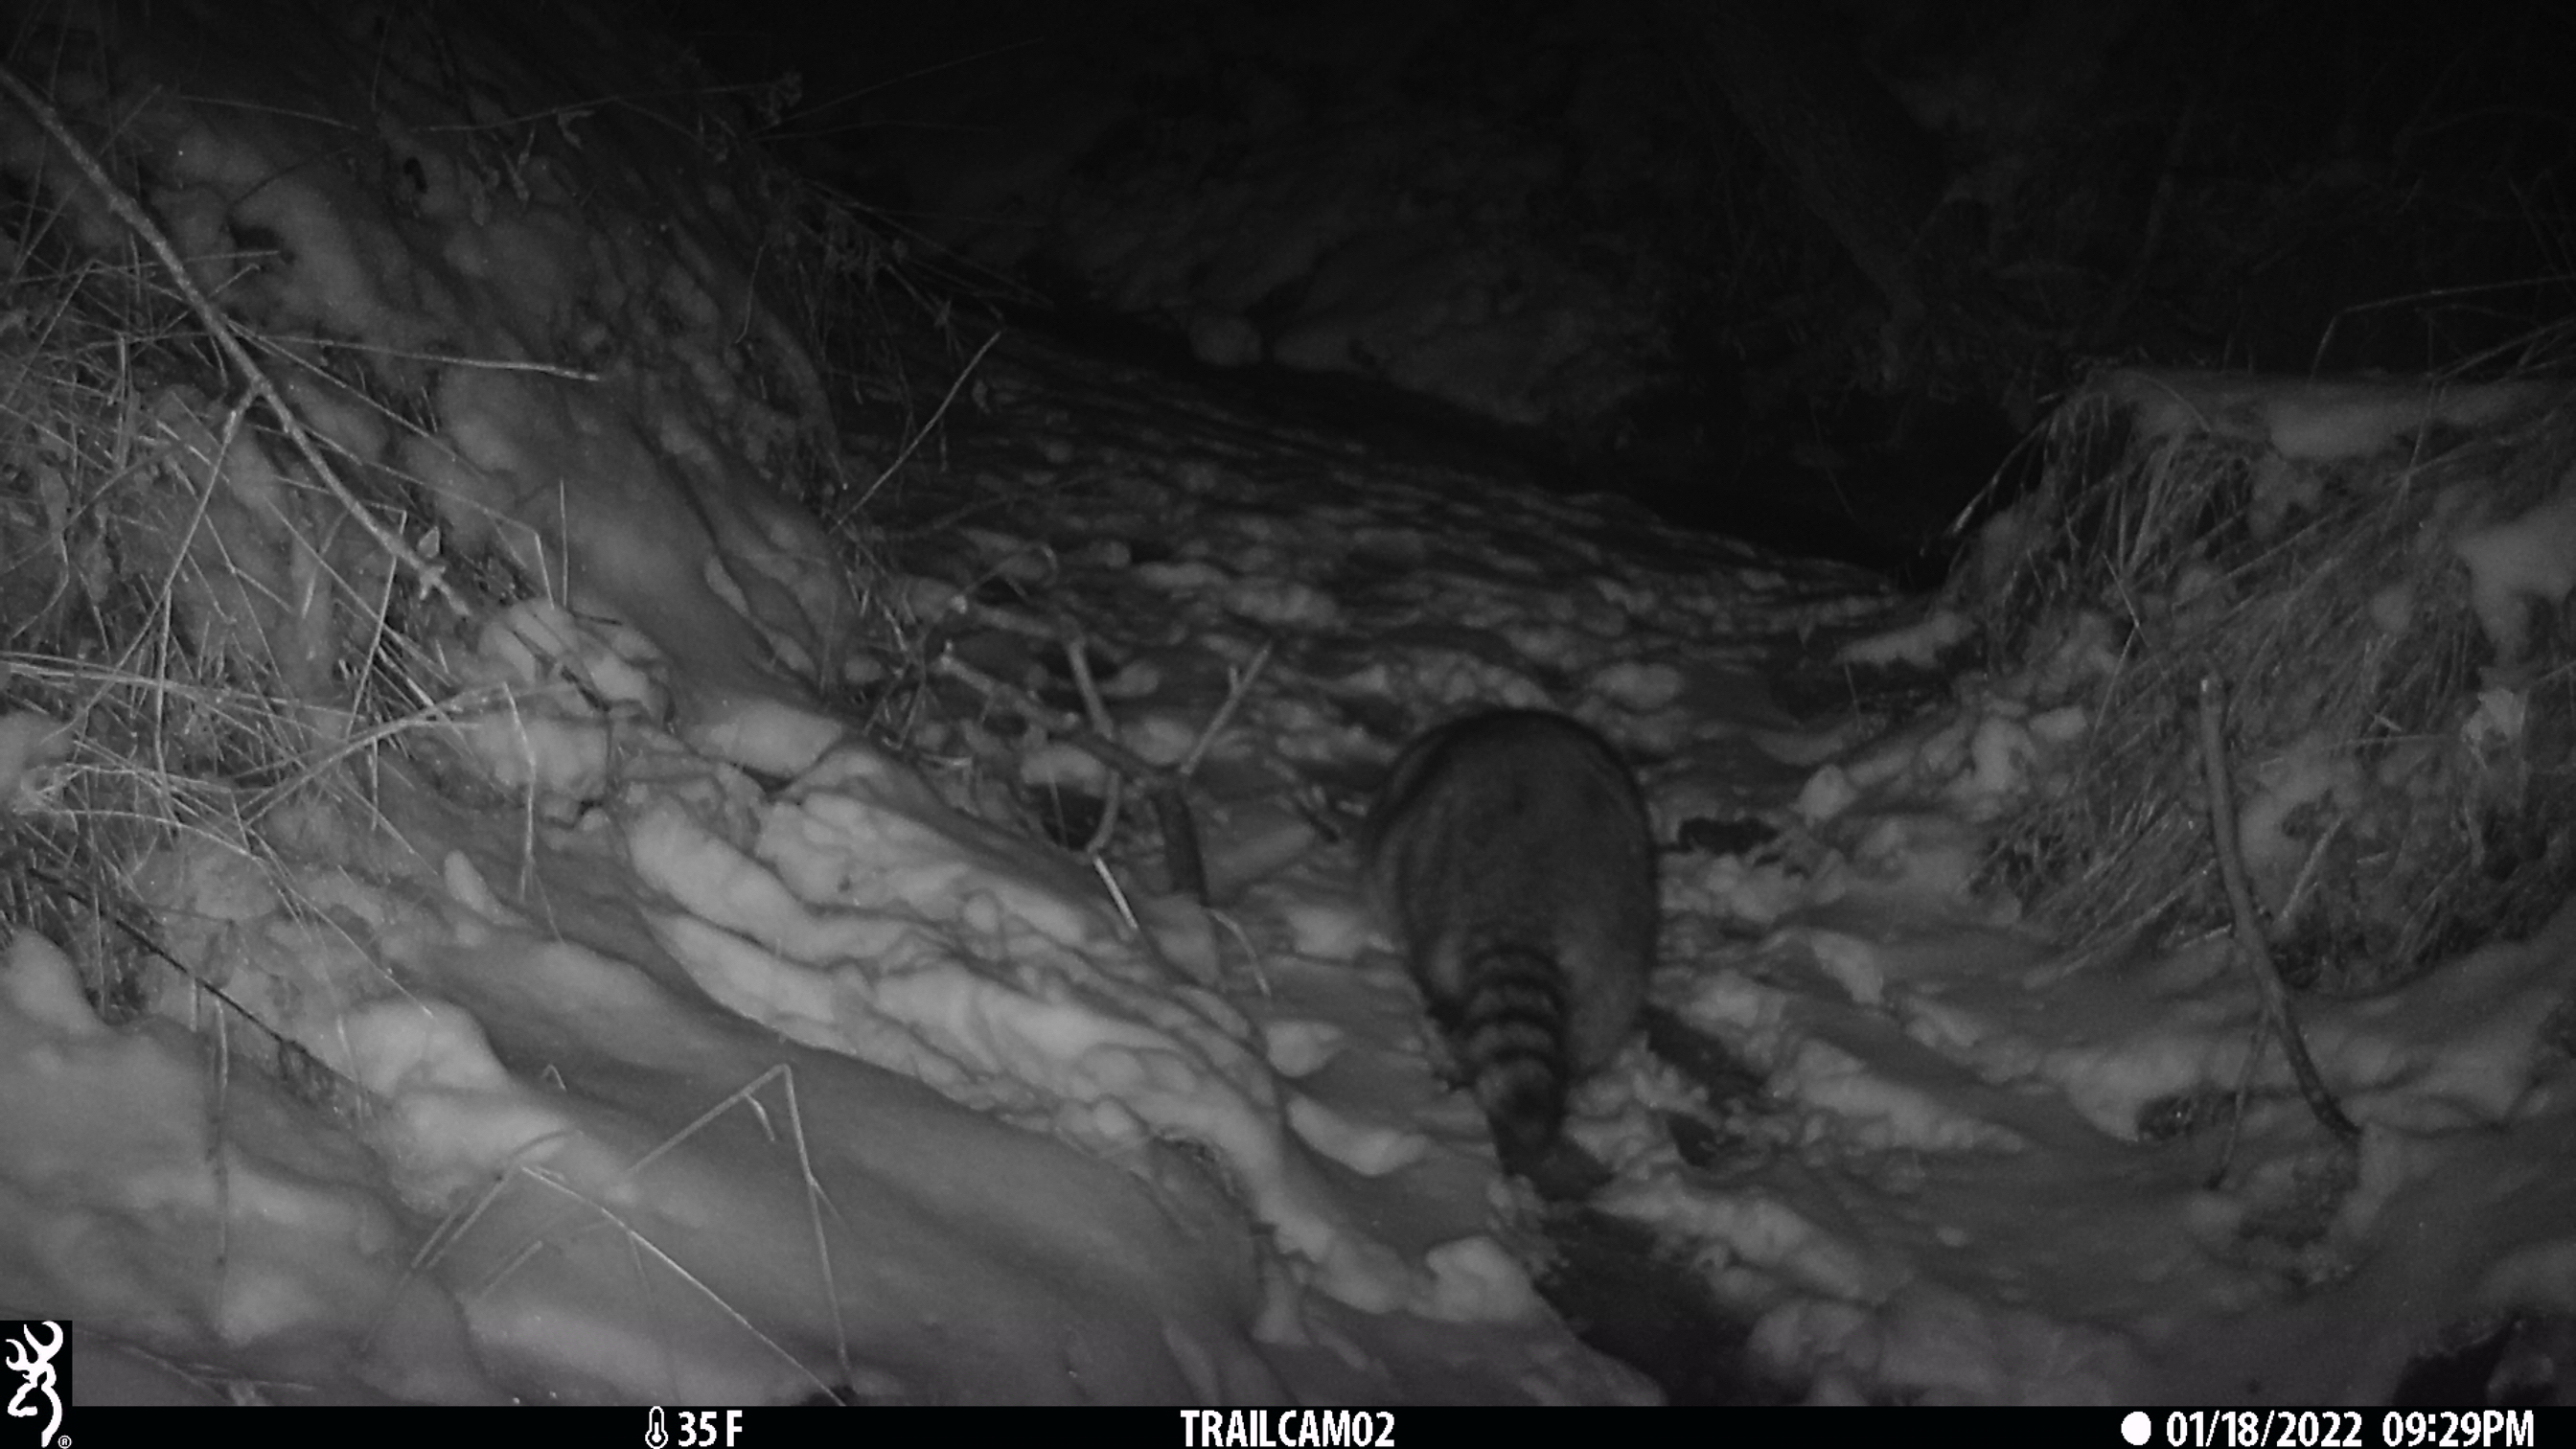Raccoon: (1369, 704, 1658, 1157)
